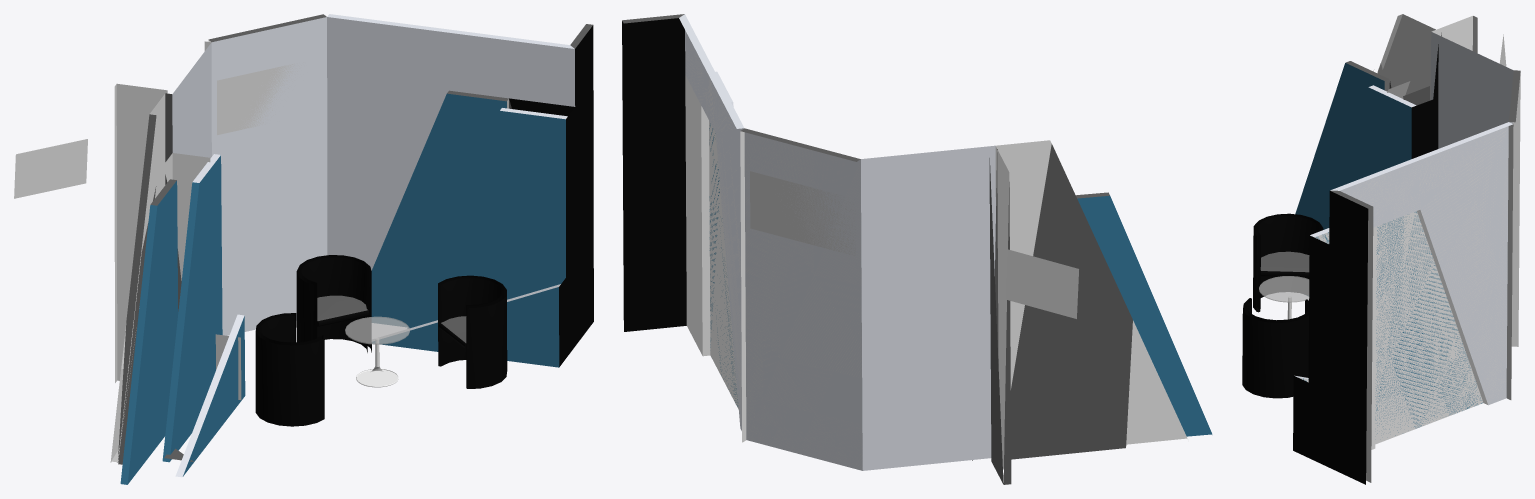
File: onevv.gltf
The picture shows the model from 3 angles, left to right: view 1: azimuth 30°, elevation 25°; view 2: azimuth 150°, elevation 25°; view 3: azimuth 270°, elevation 25°; orthographic projection. The views are drawn at different scales.
Visible parts, largest first — view 1: SketchUp, group_0, image_6, oneTechLogo, group_1, group_2; view 2: SketchUp, image_6, oneTechLogo; view 3: SketchUp, group_0, group_1.
Boxes of the visible parts, x1,y1,x2,y2 form: SketchUp: (110,14,593,484); group_0: (255,255,507,426); image_6: (217,62,303,135); oneTechLogo: (14,139,87,198); group_1: (345,316,409,344); group_2: (356,338,398,387); SketchUp: (622,14,1212,484); image_6: (750,171,855,255); oneTechLogo: (1005,249,1078,318); SketchUp: (1293,14,1520,484); group_0: (1242,213,1323,398); group_1: (1259,276,1309,302).
Bounding box in the file's own units: 219 × 123 × 110.
